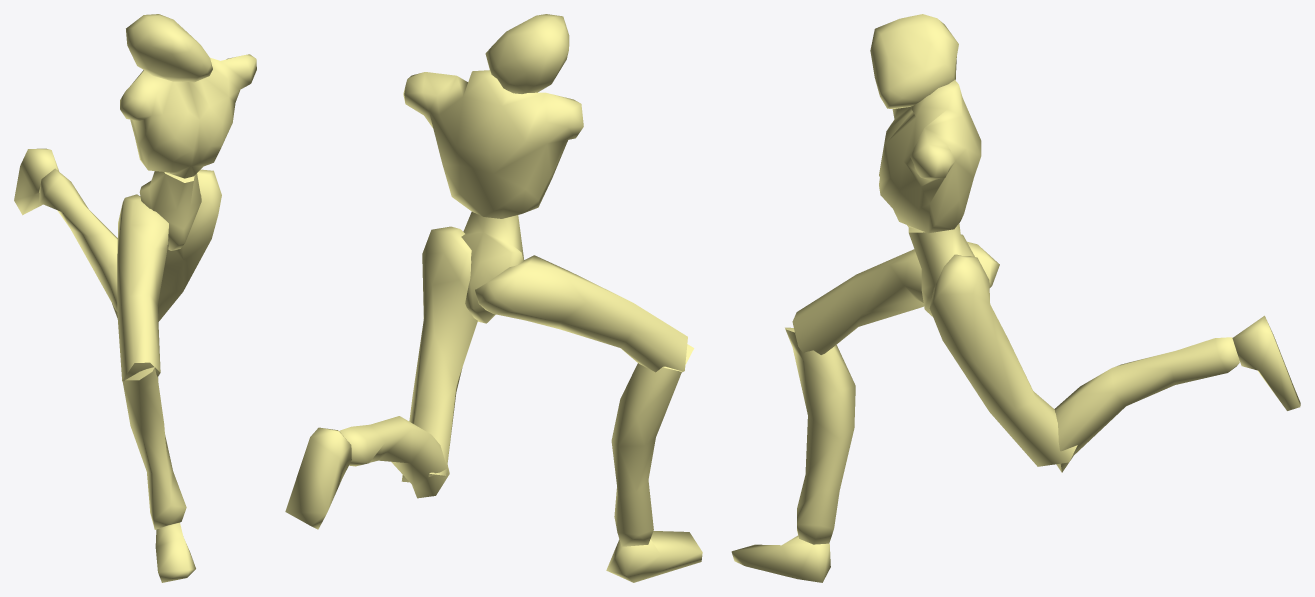
The model's file is filth18.obj.
3 views of the same model, side by side, from view 1: azimuth 30°, elevation 25°; view 2: azimuth 150°, elevation 25°; view 3: azimuth 270°, elevation 25° (orthographic). The views are drawn at different scales.
Parts seen in each view (by area): view 1: Melee_Husk; view 2: Melee_Husk; view 3: Melee_Husk.
Boxes of the visible parts, x1,y1,x2,y2 form: Melee_Husk: (14,14,256,582); Melee_Husk: (285,14,702,582); Melee_Husk: (731,14,1300,582).
Size of the model in its own units: 27.43 by 70.1 by 62.22.
